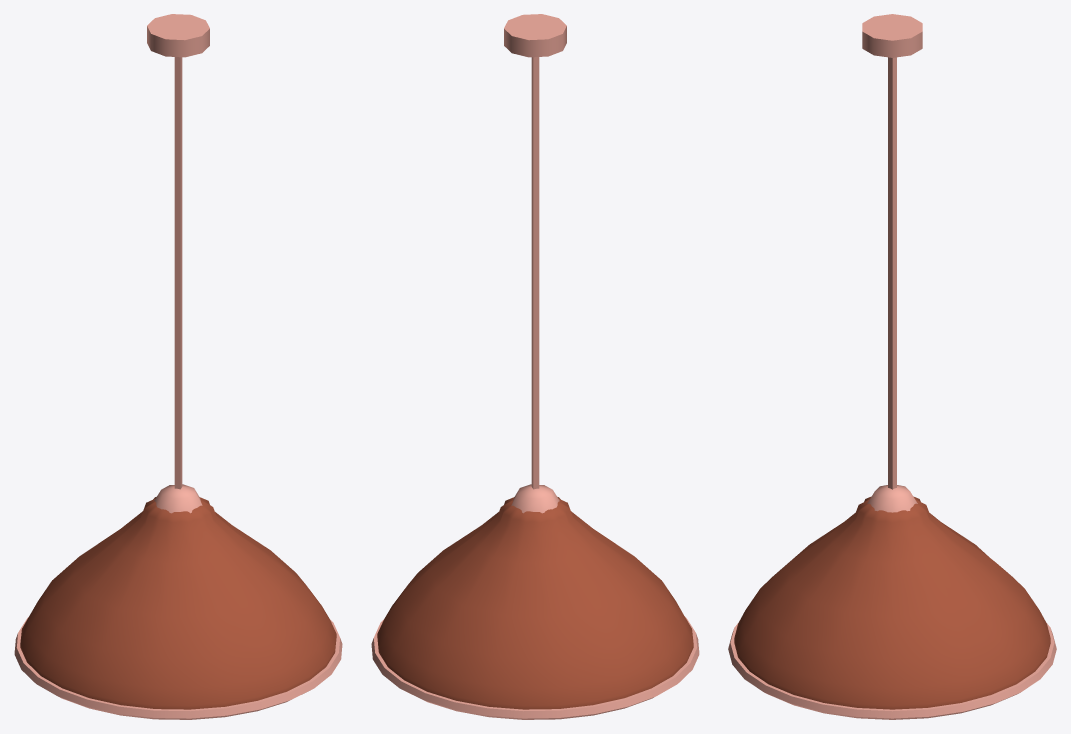
File: pendant_lamp_cafe.glb
The picture shows the model from 3 angles, left to right: view 1: azimuth 30°, elevation 25°; view 2: azimuth 150°, elevation 25°; view 3: azimuth 270°, elevation 25°; orthographic projection.
Visible parts, largest first — view 1: pendant_lamp_cafe; view 2: pendant_lamp_cafe; view 3: pendant_lamp_cafe.
Part boxes in pixels (<box>): pendant_lamp_cafe: <box>14,14,342,719</box>; pendant_lamp_cafe: <box>371,14,699,719</box>; pendant_lamp_cafe: <box>728,14,1056,719</box>.
Size of the model in its own units: 0.519 by 1.14 by 0.519.
